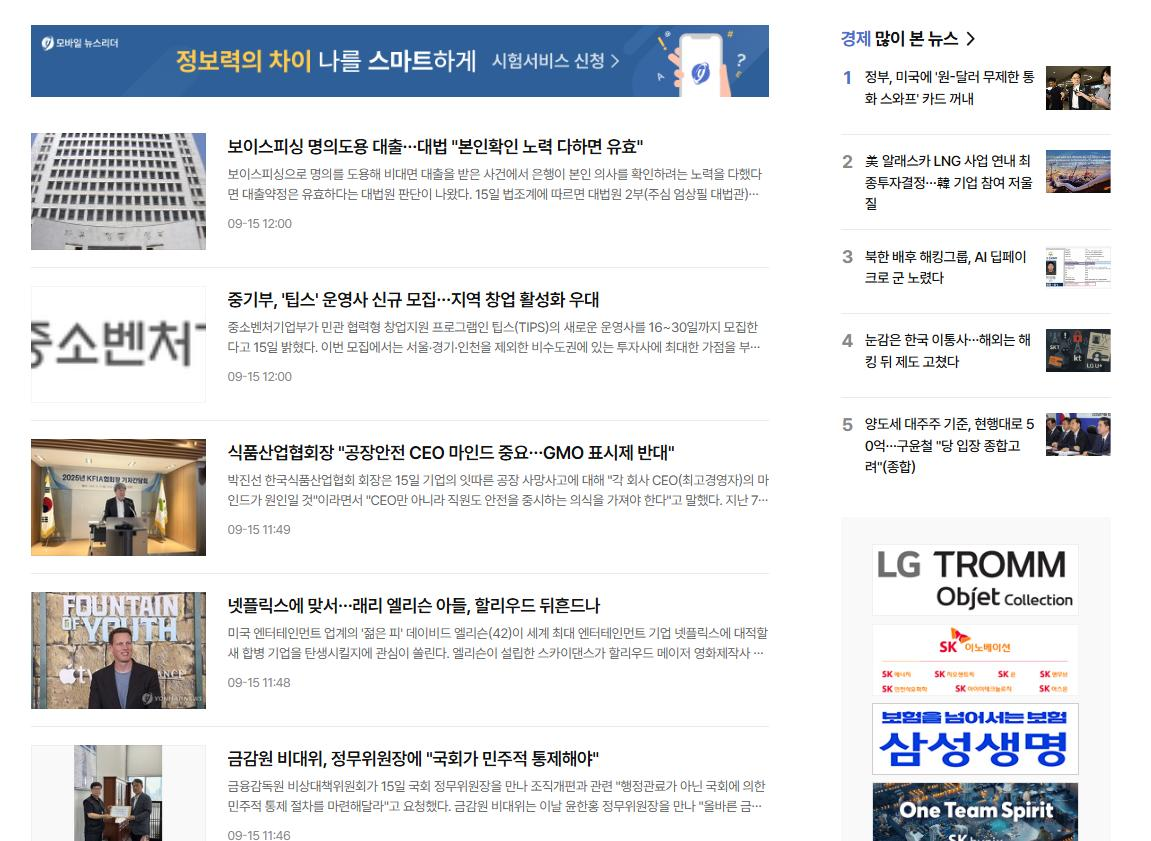button: (835, 21, 1003, 57)
popup: (841, 515, 1112, 841), (24, 20, 776, 104)
